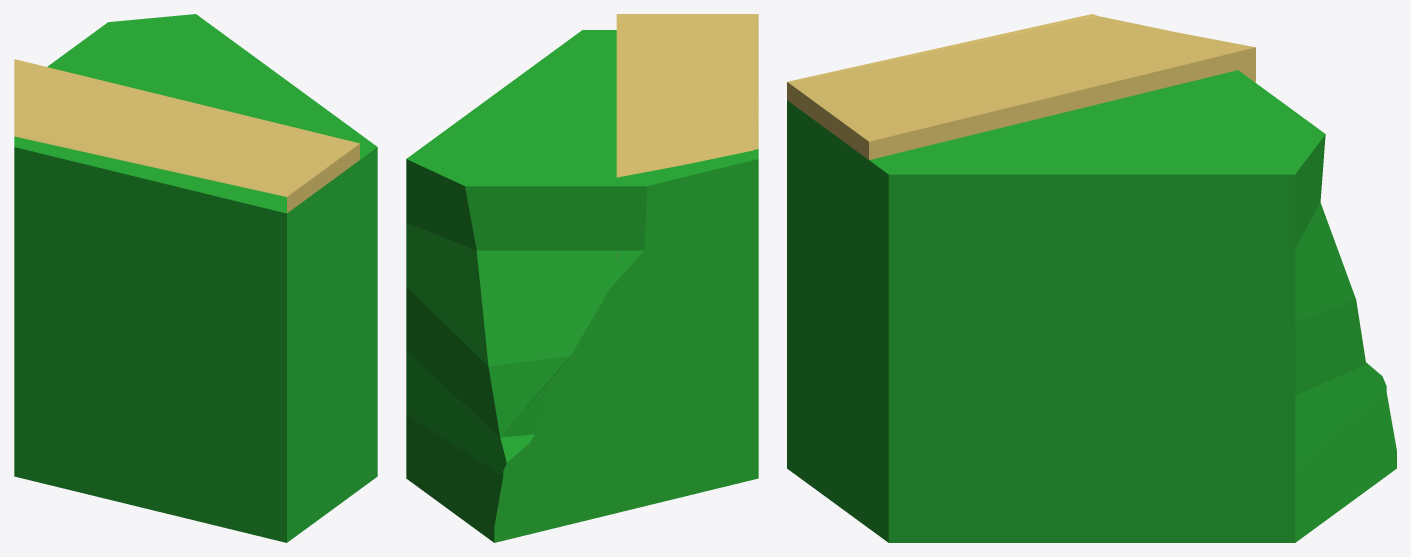
Rendered from module-corner_land_cliff_big_stairs_002.glb.
The picture shows the model from 3 angles, left to right: view 1: azimuth 30°, elevation 25°; view 2: azimuth 150°, elevation 25°; view 3: azimuth 270°, elevation 25°; orthographic projection. The views are drawn at different scales.
Visible parts, largest first — view 1: module-corner_land_cliff_big_stairs_002; view 2: module-corner_land_cliff_big_stairs_002; view 3: module-corner_land_cliff_big_stairs_002.
Part boxes in pixels (x1,y1,x2,y2): module-corner_land_cliff_big_stairs_002: [14, 14, 377, 542]; module-corner_land_cliff_big_stairs_002: [406, 14, 758, 542]; module-corner_land_cliff_big_stairs_002: [787, 14, 1396, 542].
Size of the model in its own units: 0.433 by 0.525 by 0.75.
